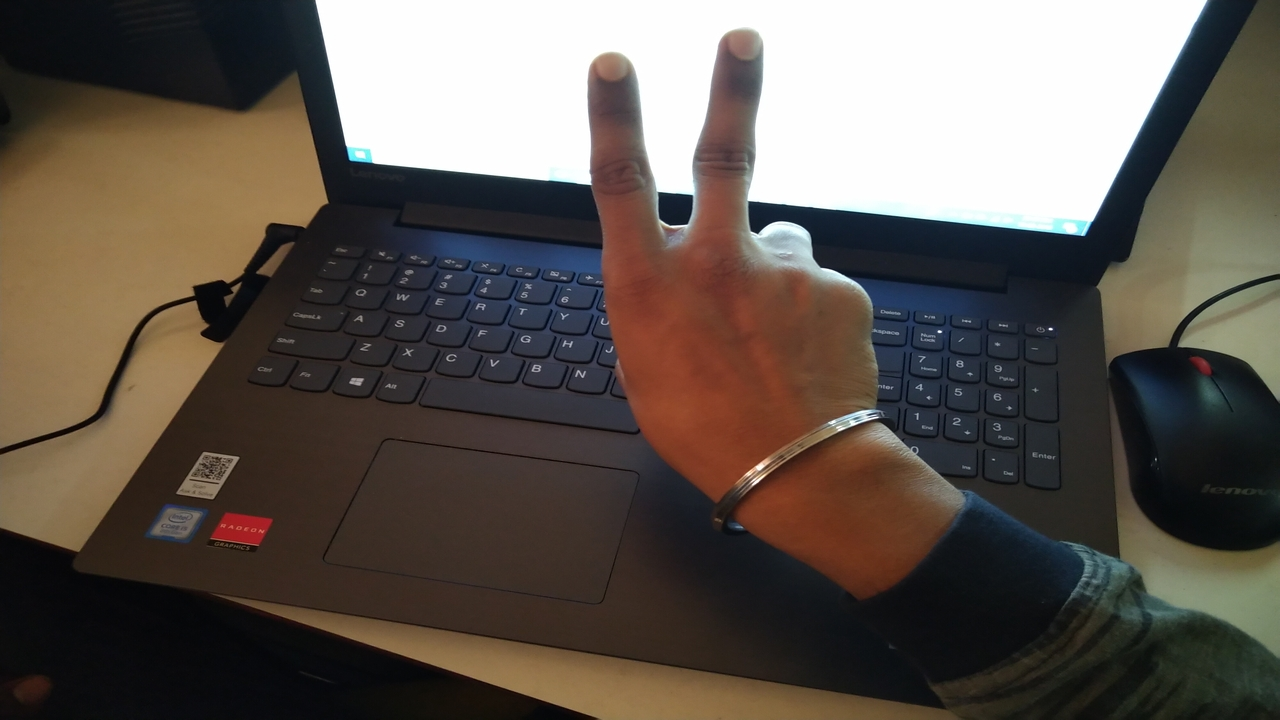fingertip: (584, 48, 640, 102), (714, 22, 770, 74)
